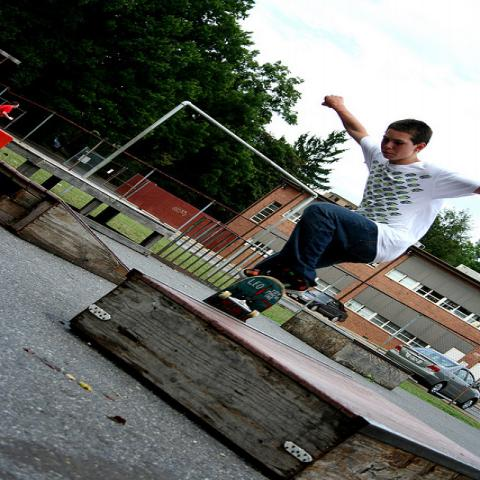car: (385, 344, 480, 410), (286, 289, 349, 322)
